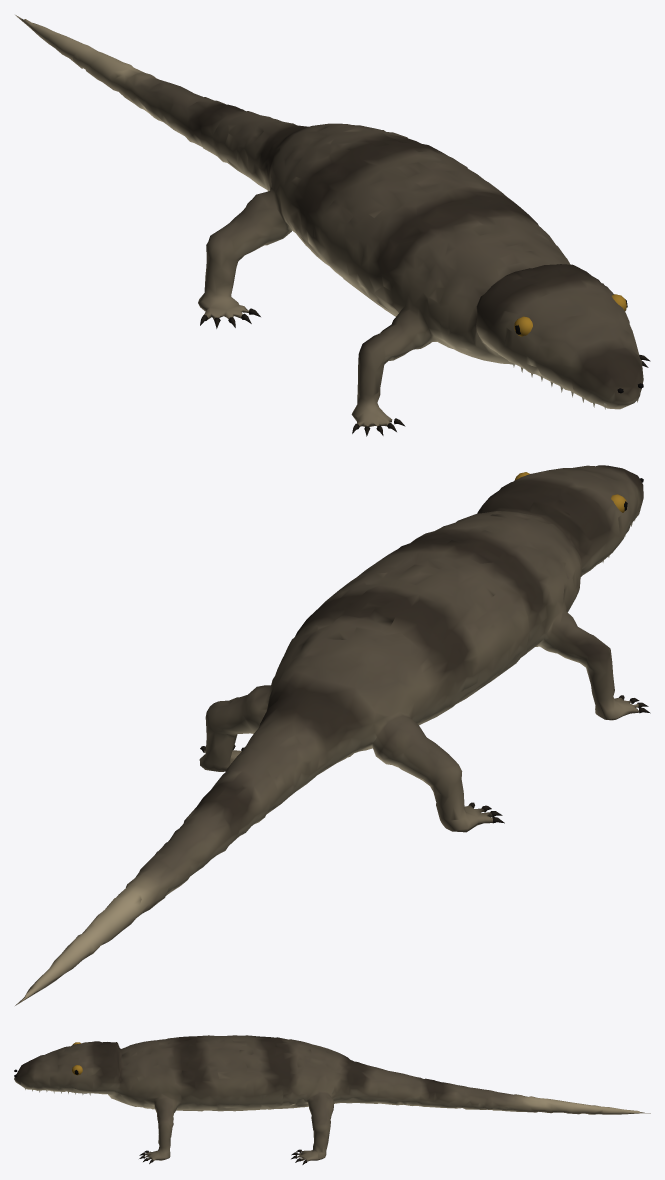
The model's file is Captorhinus.fbx.
The picture shows the model from 3 angles, top to bottom: view 1: azimuth 30°, elevation 25°; view 2: azimuth 150°, elevation 25°; view 3: azimuth 270°, elevation 25°; orthographic projection. The views are drawn at different scales.
Parts seen in each view (by area): view 1: Captorhinus; view 2: Captorhinus; view 3: Captorhinus.
Boxes of the visible parts, <box> form: Captorhinus: <box>15,15,650,436</box>; Captorhinus: <box>15,465,650,1005</box>; Captorhinus: <box>14,1035,650,1164</box>.
Size of the model in its own units: 0.4544 by 0.2382 by 1.59.
